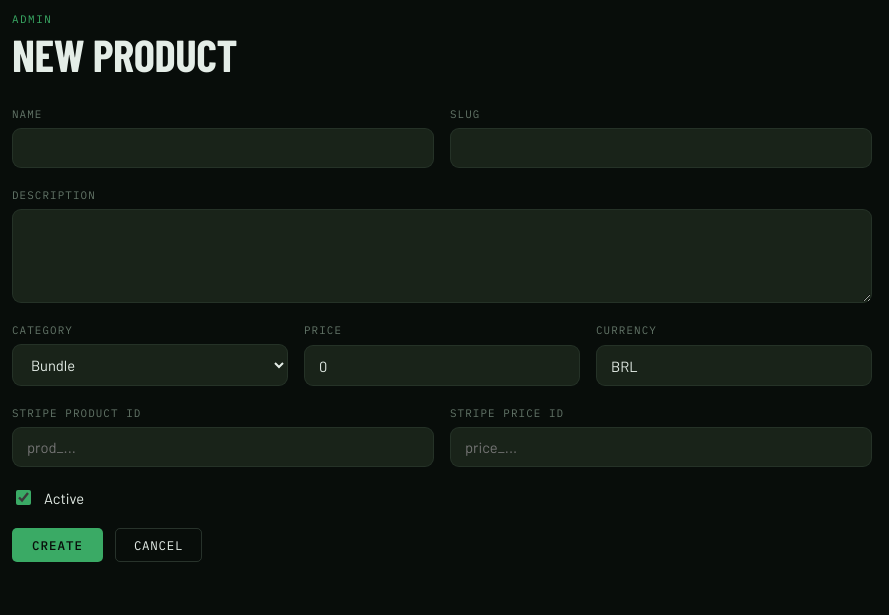
Scenario: AdminProductFormPage › shows ApiError message on submit failure
This screenshot has width=889, height=615.
Expected: the button "Create" is shown, [12,528,103,562]
Type "Dup Product" into the field labelled "Name" at (223, 148), box [12,128,434,168]
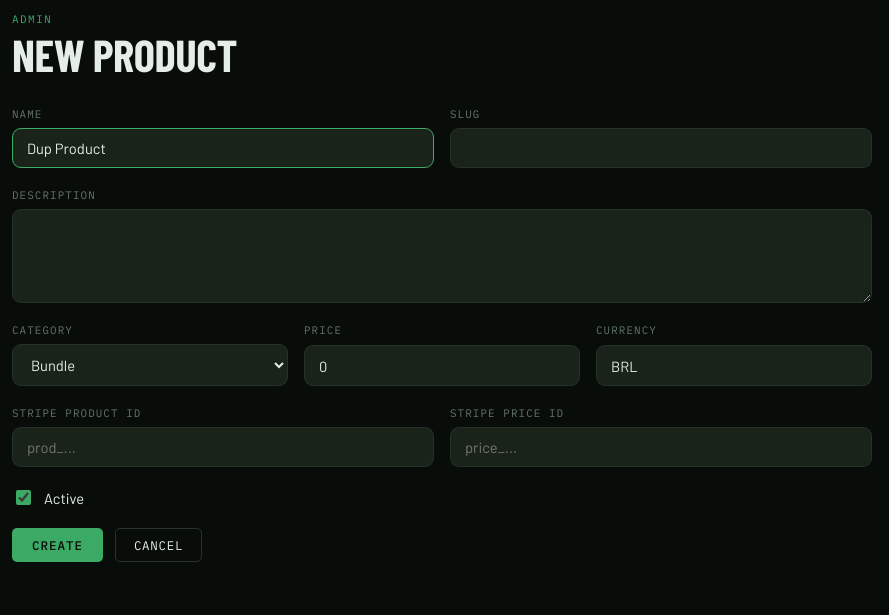
Type "dup-product" into the field labelled "Slug" at (661, 148), box [450,128,872,168]
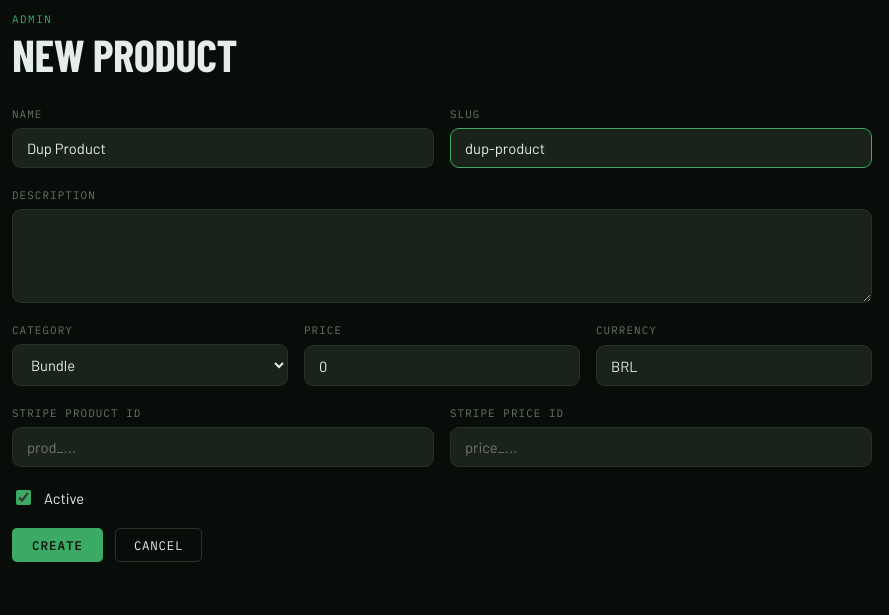
Type "Duplicate" into the text box labelled "Description" at (442, 256), box [12,209,872,303]
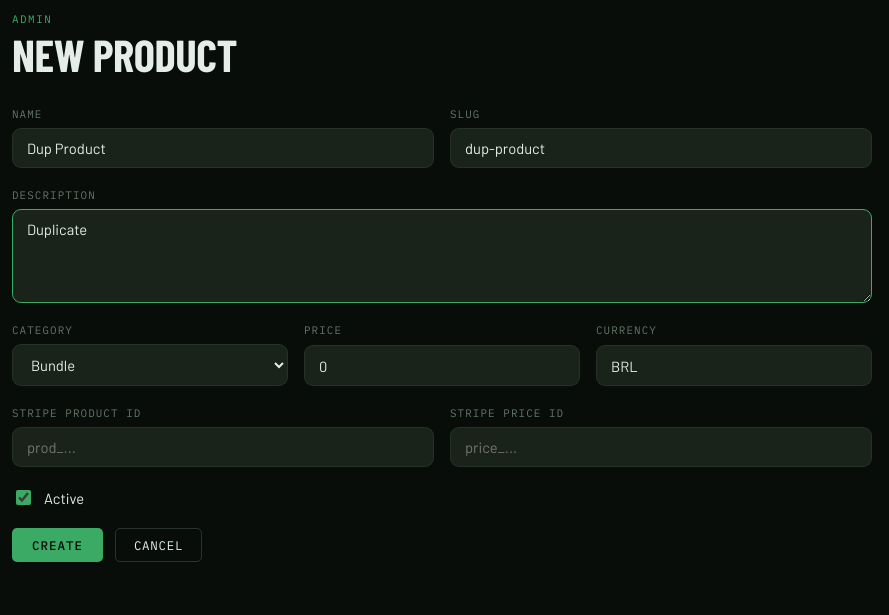
Click the button "Create" at (57, 545), box [12,528,103,562]
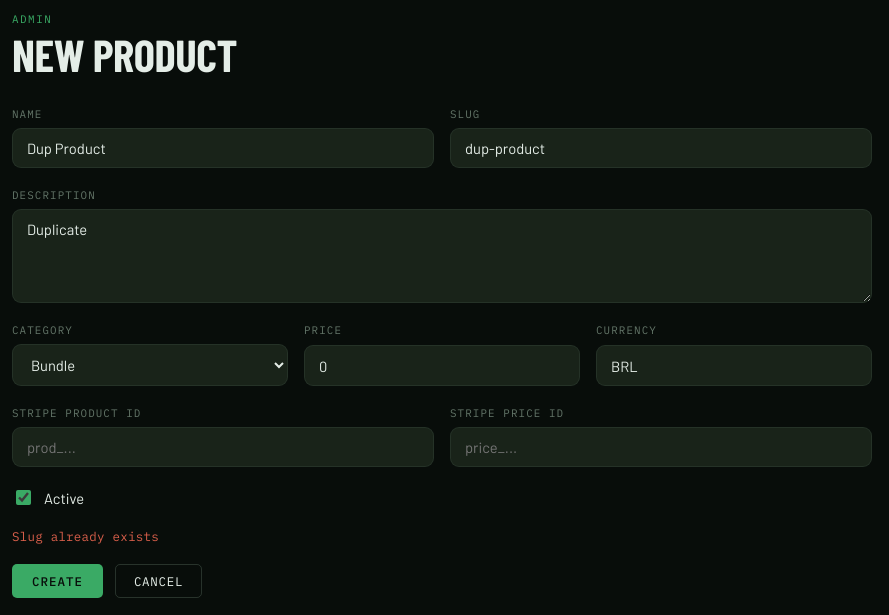
Now the text "Slug already exists" is shown, box [12,528,159,544]
